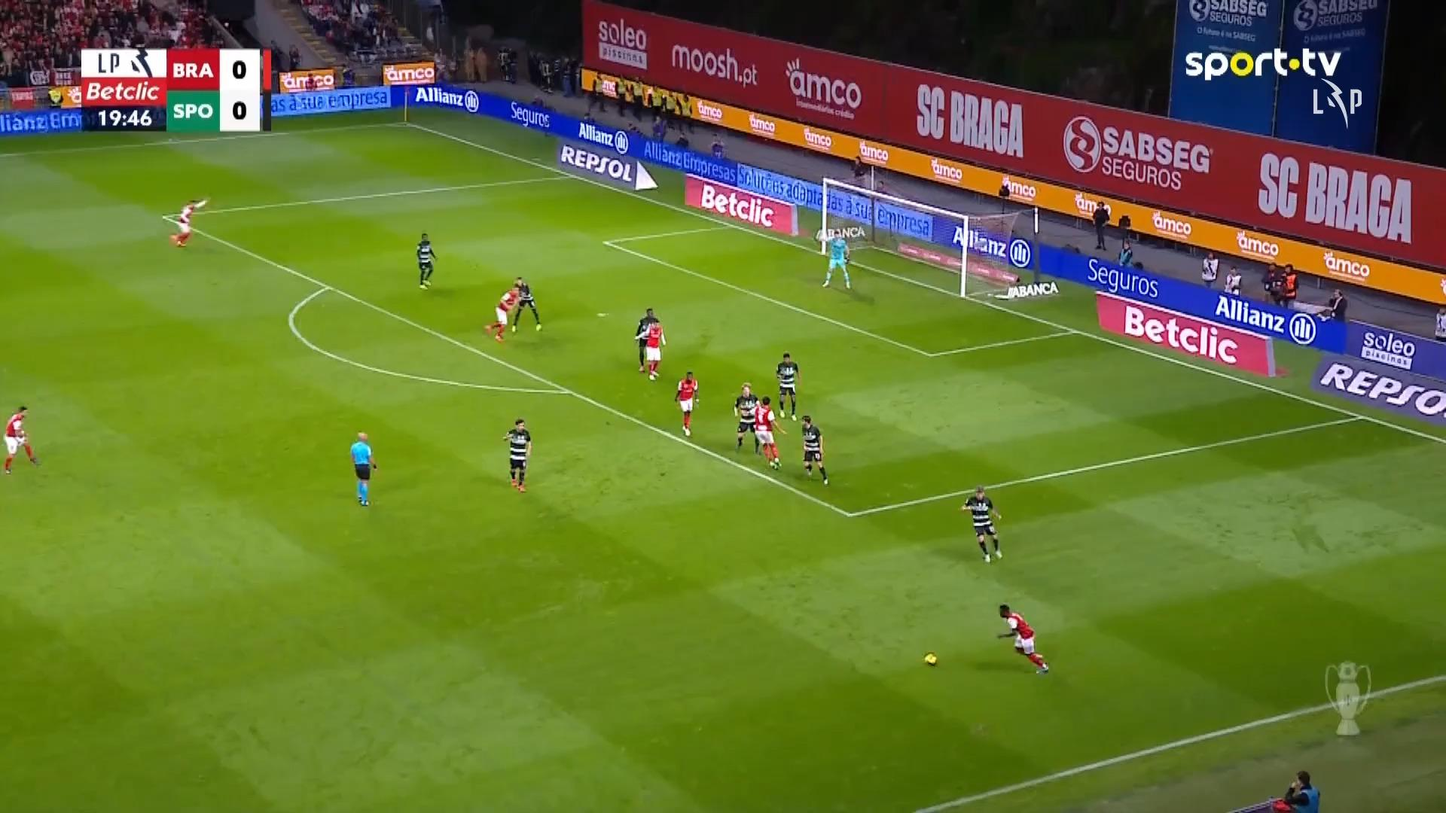ball: (923, 653, 937, 665)
goalkeeper: (821, 229, 852, 289)
player: (996, 603, 1049, 674), (960, 484, 1002, 562), (752, 395, 787, 470), (2, 404, 39, 474), (502, 418, 532, 492), (732, 382, 762, 454), (483, 285, 520, 342), (168, 196, 209, 247), (799, 414, 828, 486), (774, 352, 800, 422), (510, 276, 542, 332), (674, 370, 699, 436), (639, 318, 666, 379), (415, 232, 436, 289)
referee: (349, 431, 377, 506), (633, 307, 659, 373)
